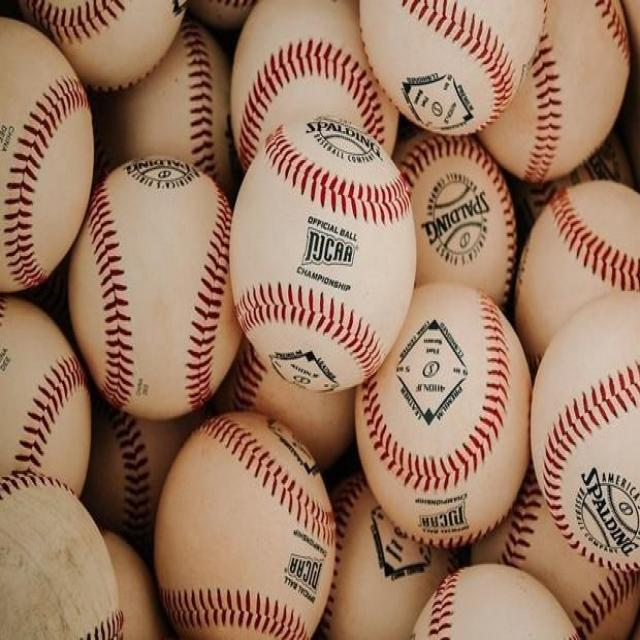baseball: (228, 120, 417, 390), (72, 158, 230, 407), (162, 409, 336, 627), (382, 287, 529, 545), (530, 288, 632, 567), (1, 16, 98, 292), (494, 4, 628, 177), (3, 468, 124, 634), (232, 3, 366, 148), (408, 131, 515, 302), (520, 173, 625, 347), (114, 32, 235, 166), (6, 300, 90, 476)
